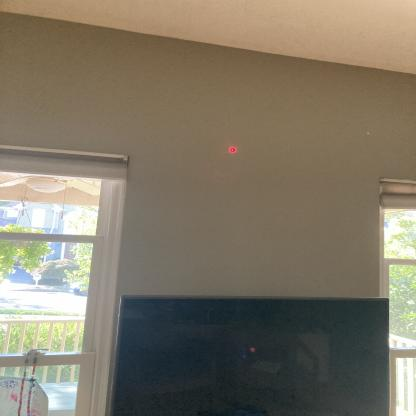target: (230, 145, 241, 156)
